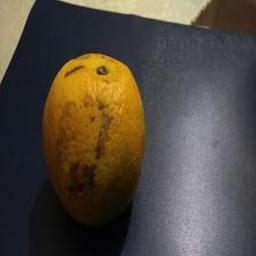Orange Semifresh: (35, 58, 153, 226)
